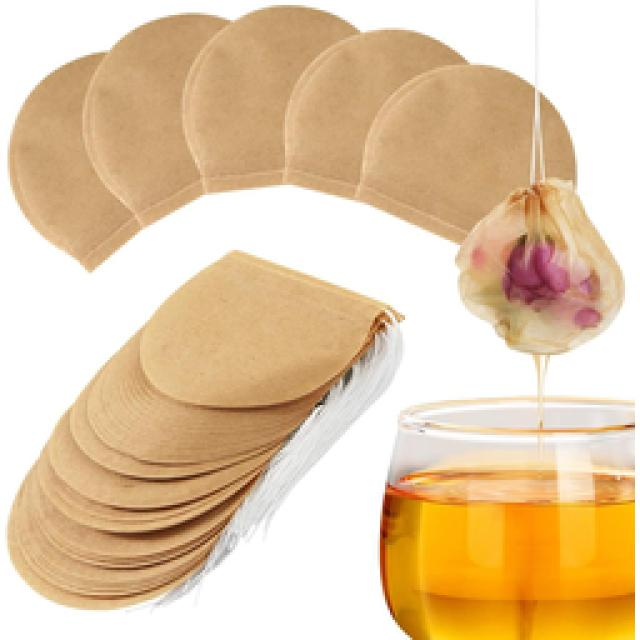tea-bags: (8, 5, 620, 358), (8, 252, 400, 605)
